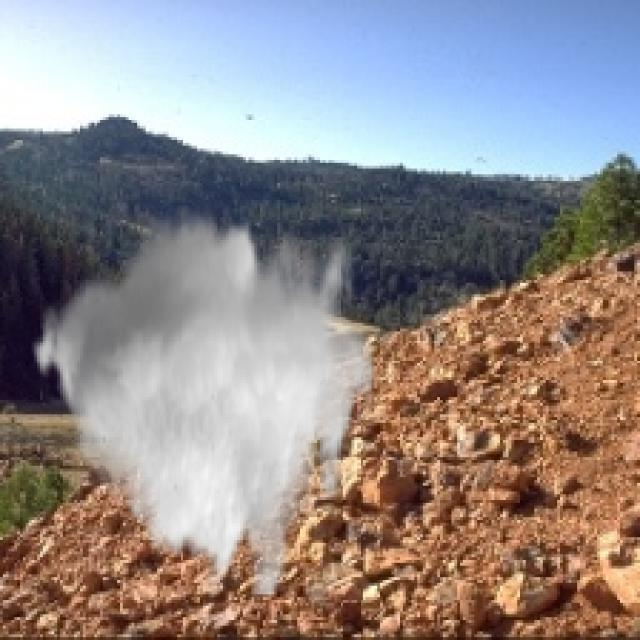Smoke: (26, 205, 374, 598)
